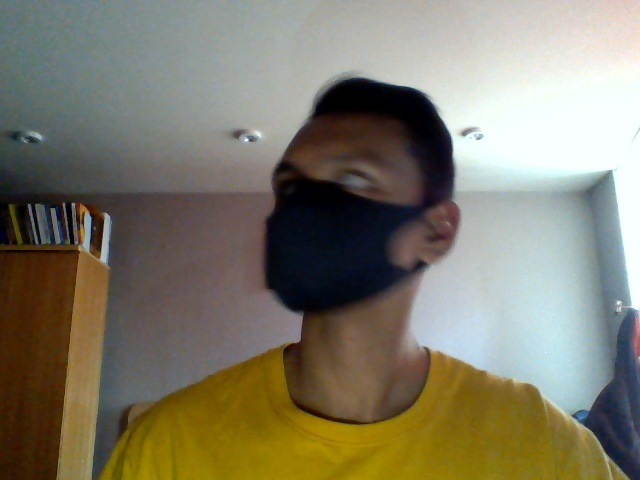mask: (258, 182, 414, 318)
